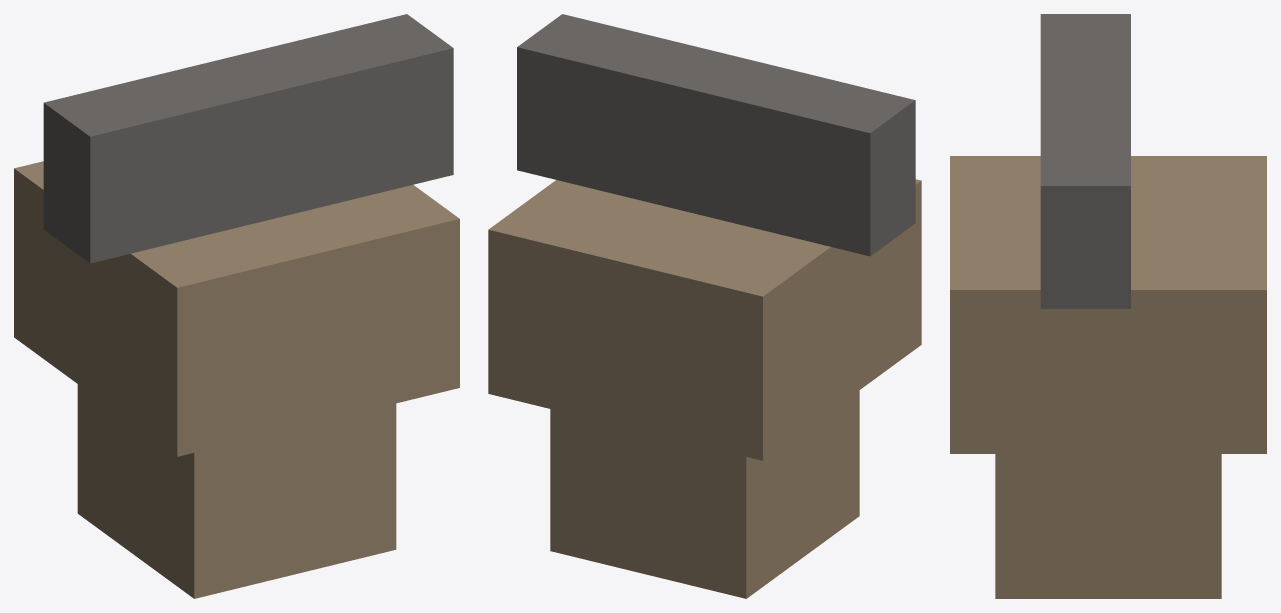
File: cubo_madera_01.glb
3 renders of one model, left to right at view 1: azimuth 30°, elevation 25°; view 2: azimuth 150°, elevation 25°; view 3: azimuth 270°, elevation 25°, orthographic. The views are drawn at different scales.
Visible parts, largest first — view 1: cubo_madera; view 2: cubo_madera; view 3: cubo_madera.
Part boxes in pixels (<box>): cubo_madera: <box>14,14,459,598</box>; cubo_madera: <box>488,14,921,598</box>; cubo_madera: <box>950,14,1266,598</box>.
Size of the model in its own units: 0.75 by 0.9167 by 0.5833.
